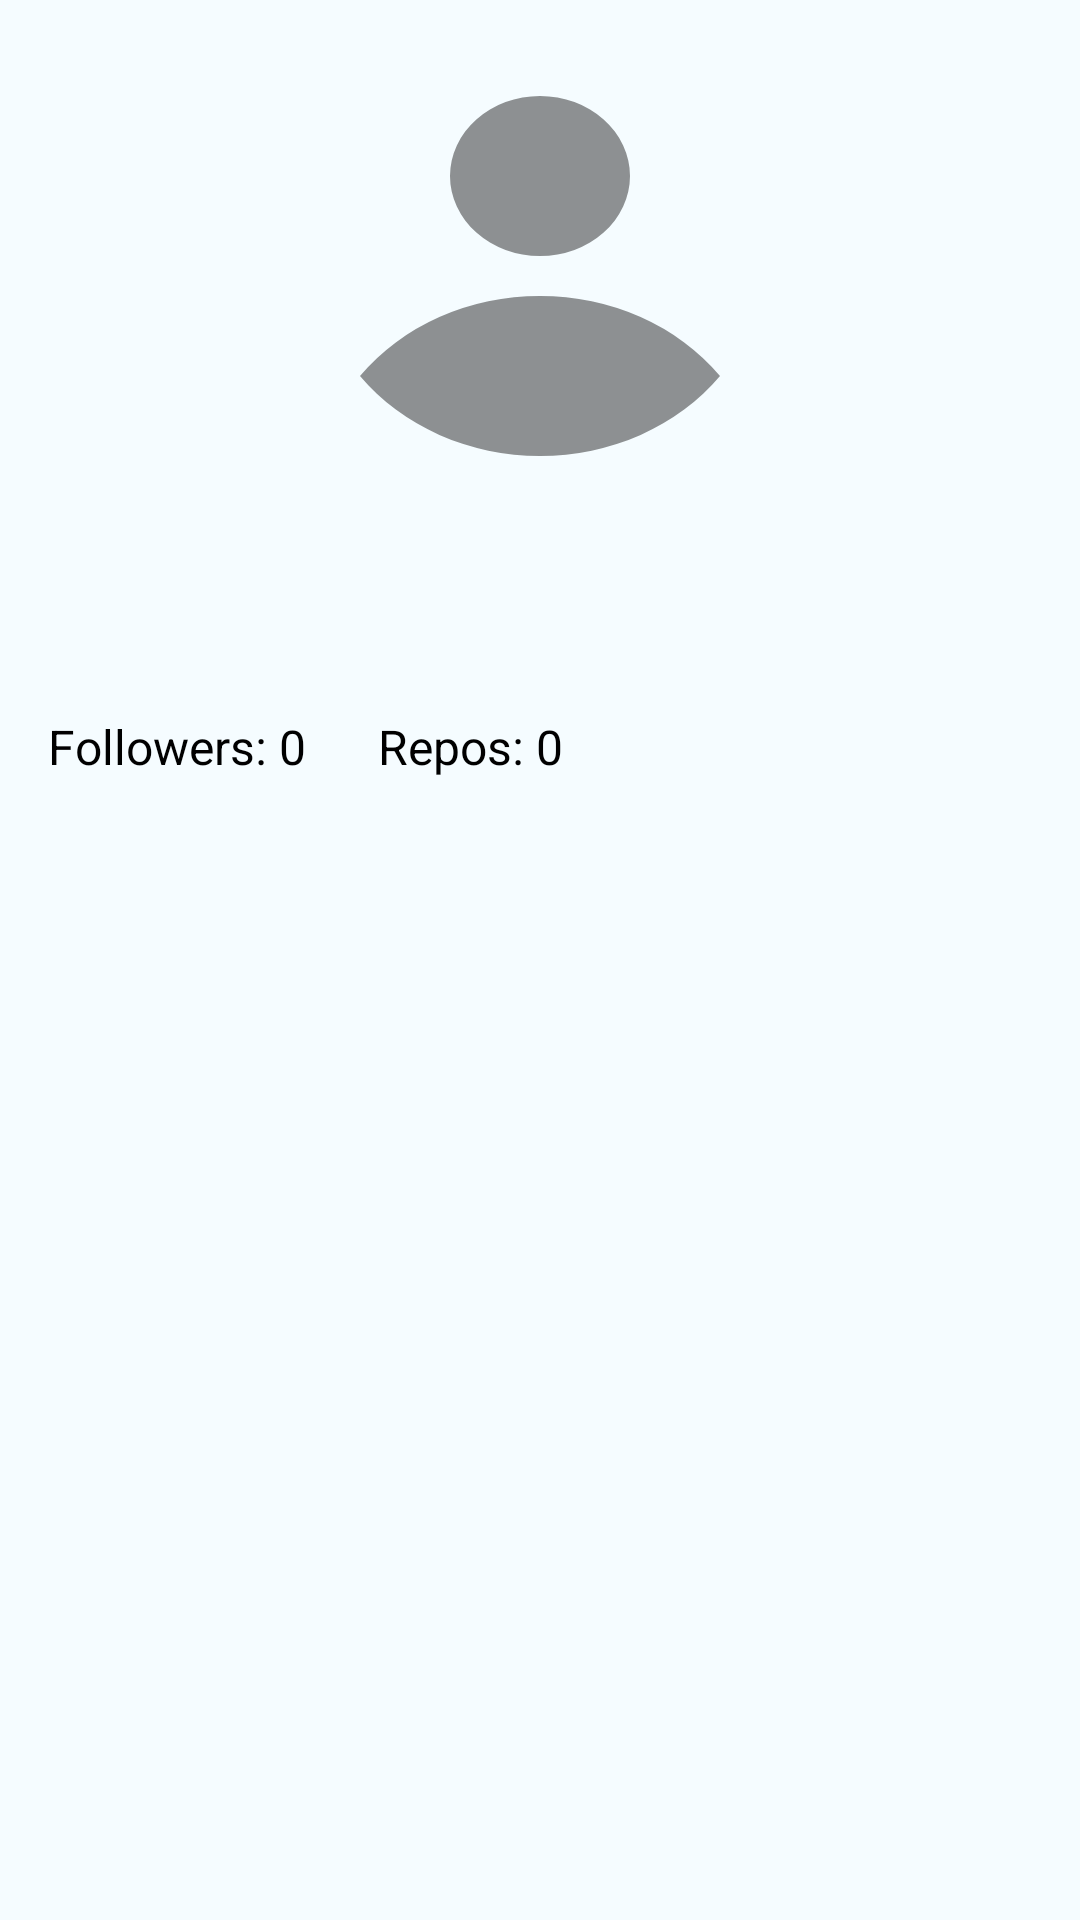

Named icons in this screenshot (1080x1920) and their bounding boxes, (x1, y1, x2, y2):
profile pic: (360, 96, 720, 456)
